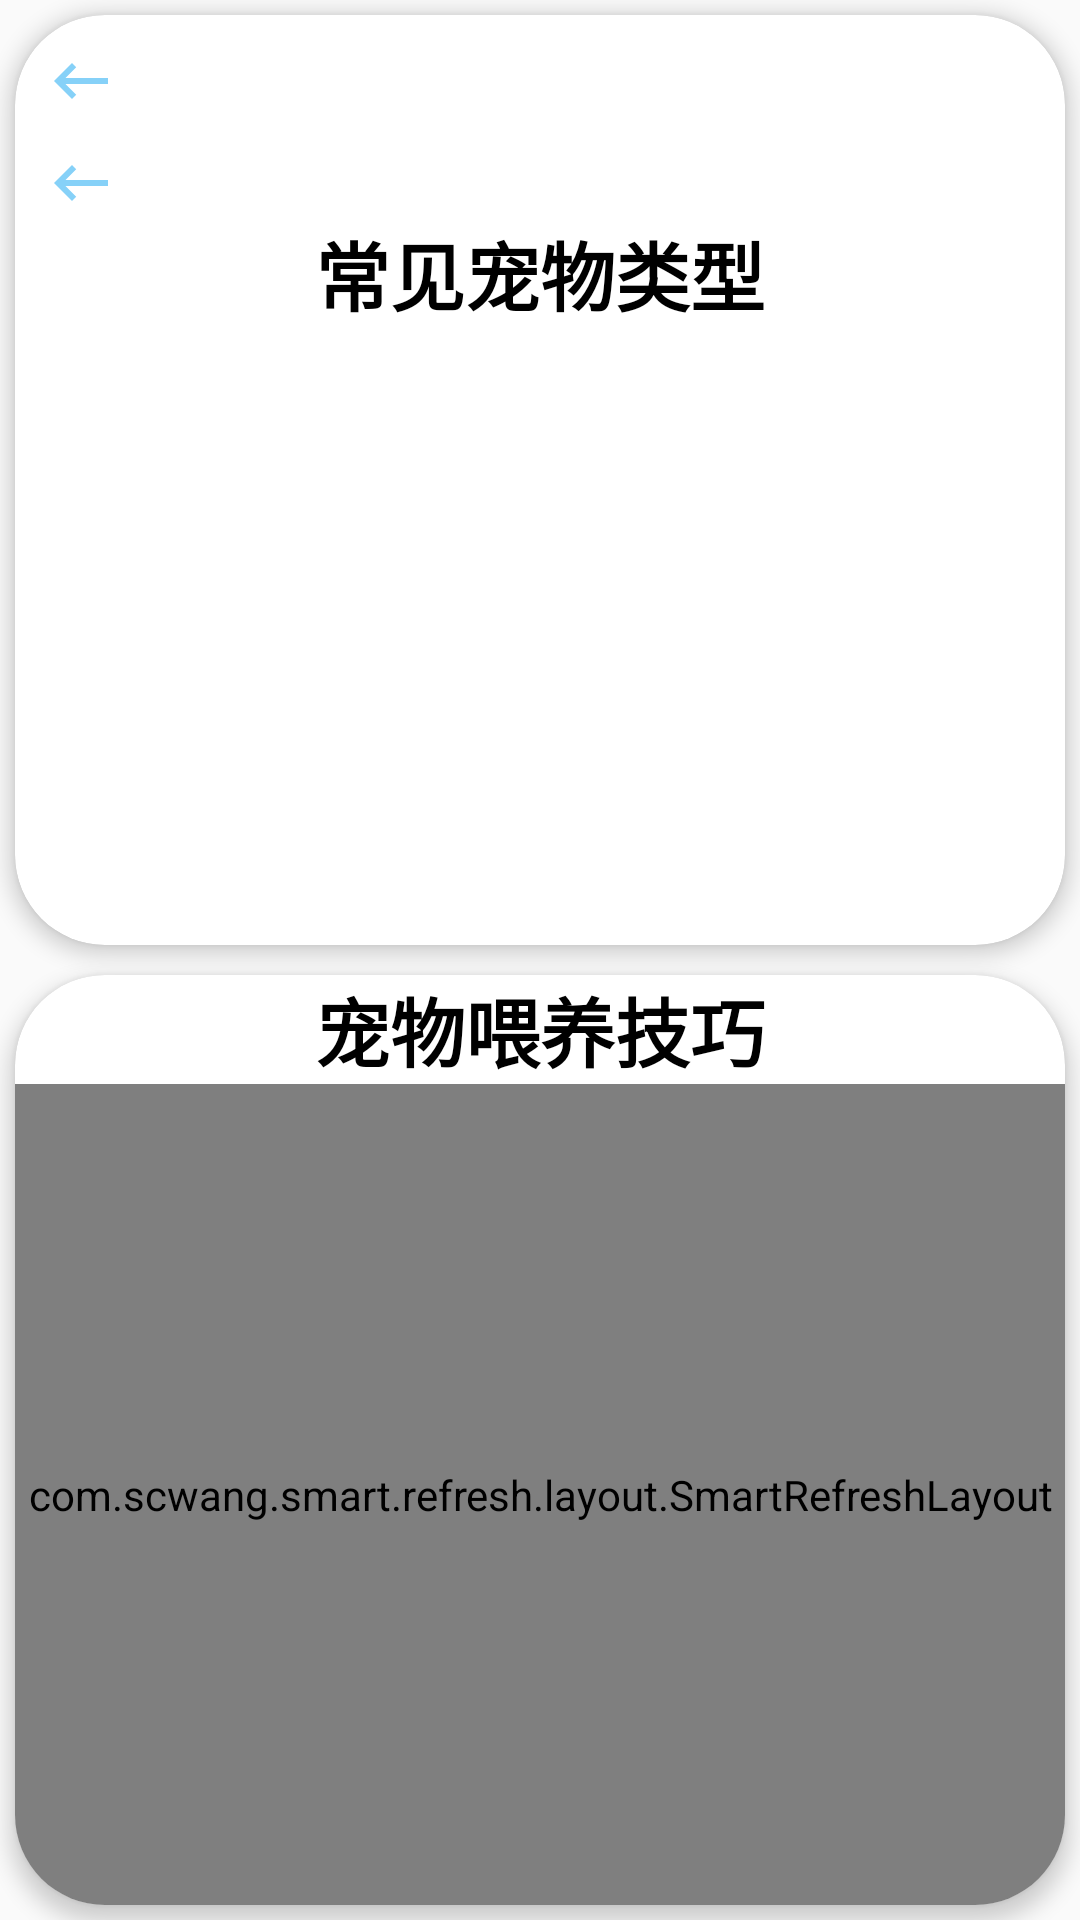

Screen size 1080×1920. Icon name, then its box in pixels as BBox(x1, y1, x2, y2):
back: BBox(54, 63, 108, 99), BBox(54, 165, 108, 201)
